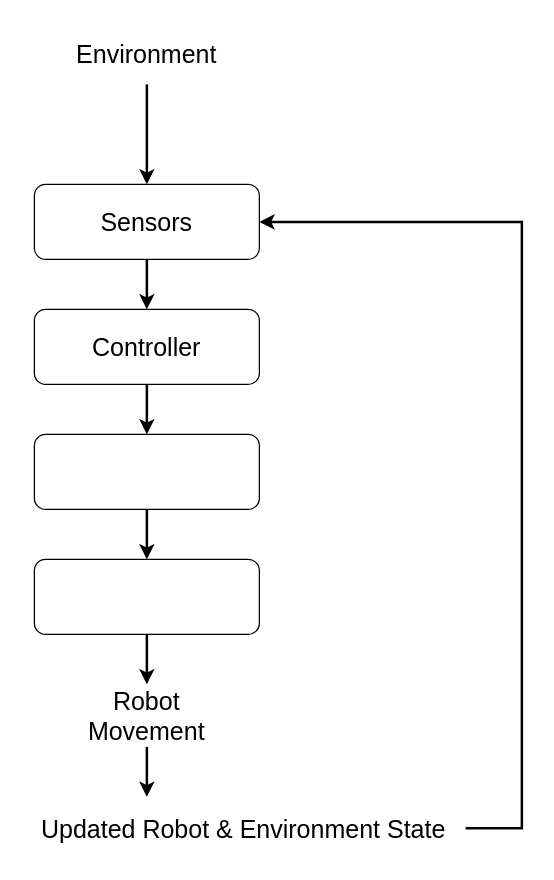
Image size: 554x880. Some labels were removed from this diagram. Here are the shapes that lost their labels. From the top down, the centre of each, then its label:
the point at 146,471: Motor Driver
the point at 146,596: Motors
